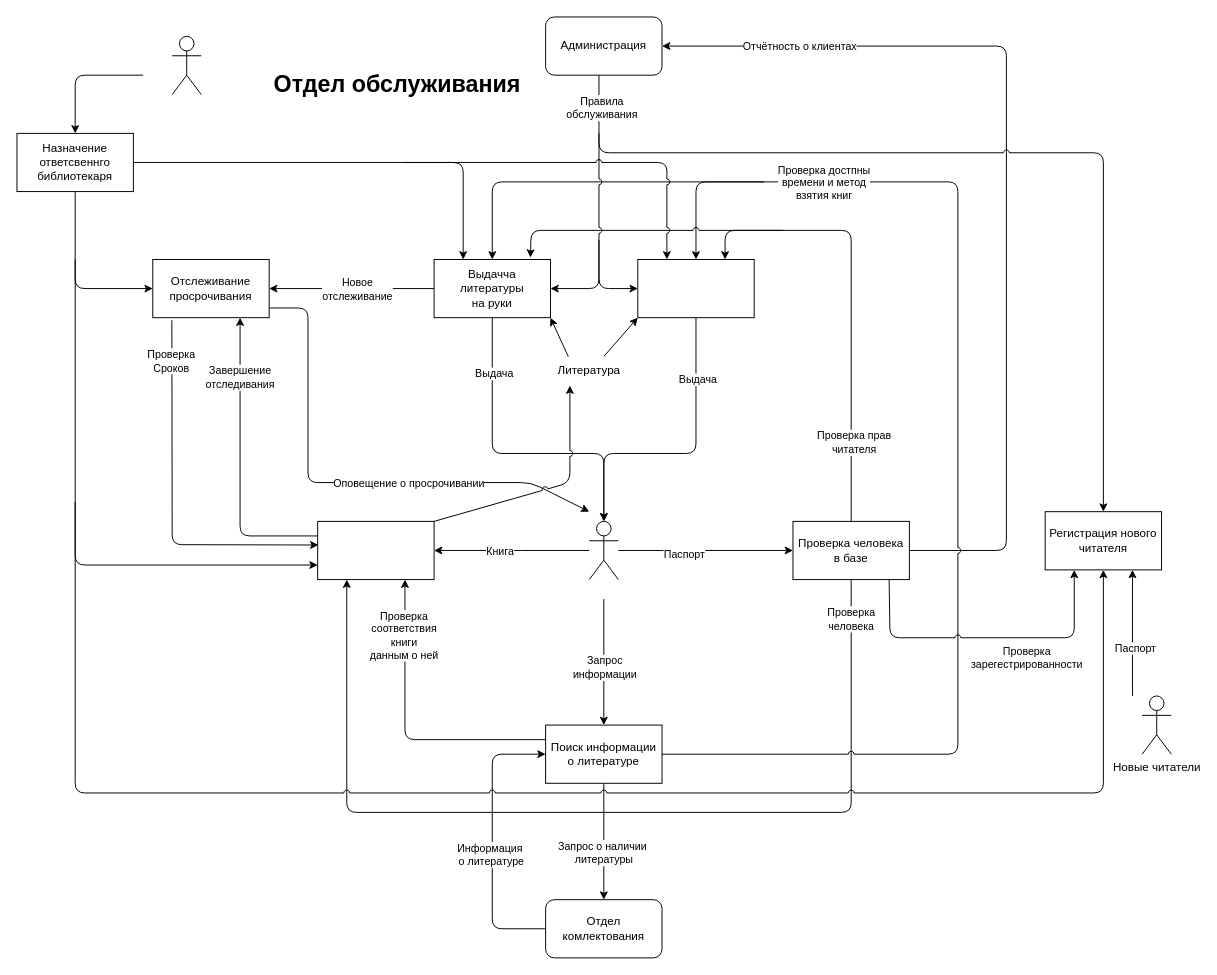
The diagram is 1217 pixels wide and 975 high, and some of its shapes have lost their labels. The shapes that lost their labels are listed below. From the top down, each one's centre as x and y in pixels, then its label:
At pixel 186 65: "Сотрудник".
At pixel 695 288: "Выдача для чтения в зале".
At pixel 375 550: "Приём литературы".
At pixel 603 550: "Читатели".
